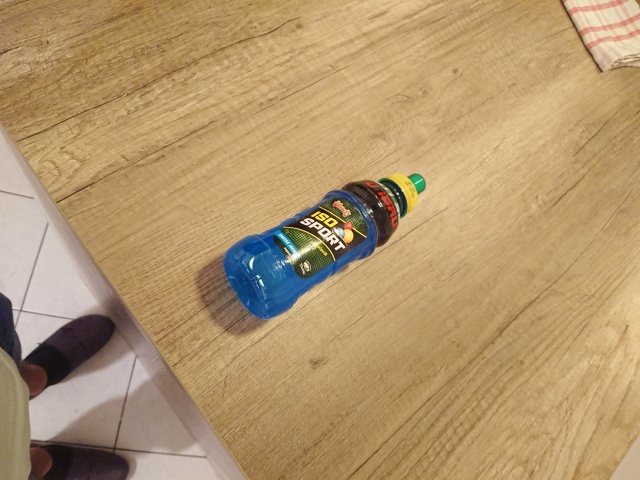Vindi Iso Sport Forest Strawberries 500mL: (221, 171, 429, 321)
